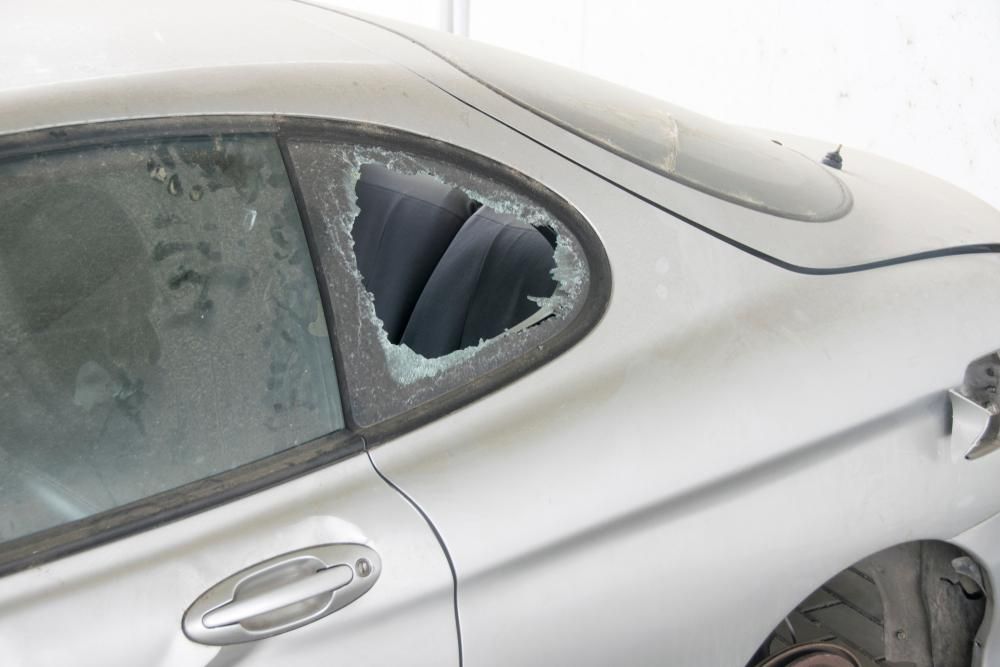glass shatter: (284, 141, 590, 427)
